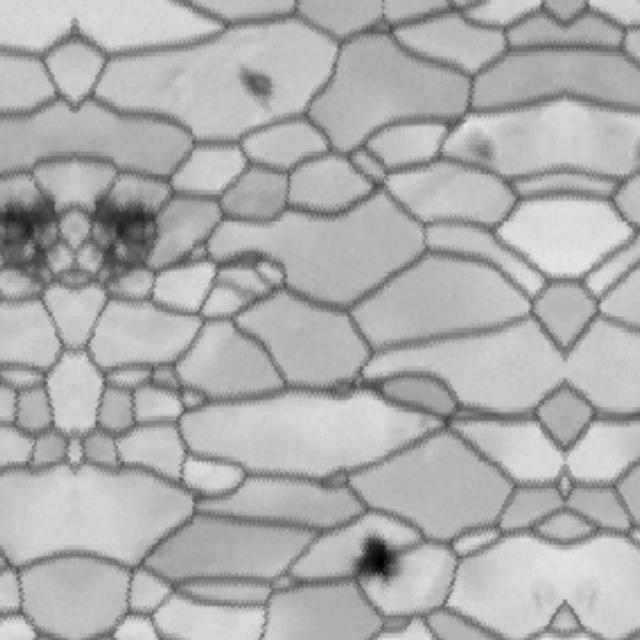good_void: (65, 185, 176, 304), (0, 192, 74, 301), (226, 51, 286, 116), (345, 530, 405, 595), (460, 129, 505, 176), (624, 135, 640, 164)
